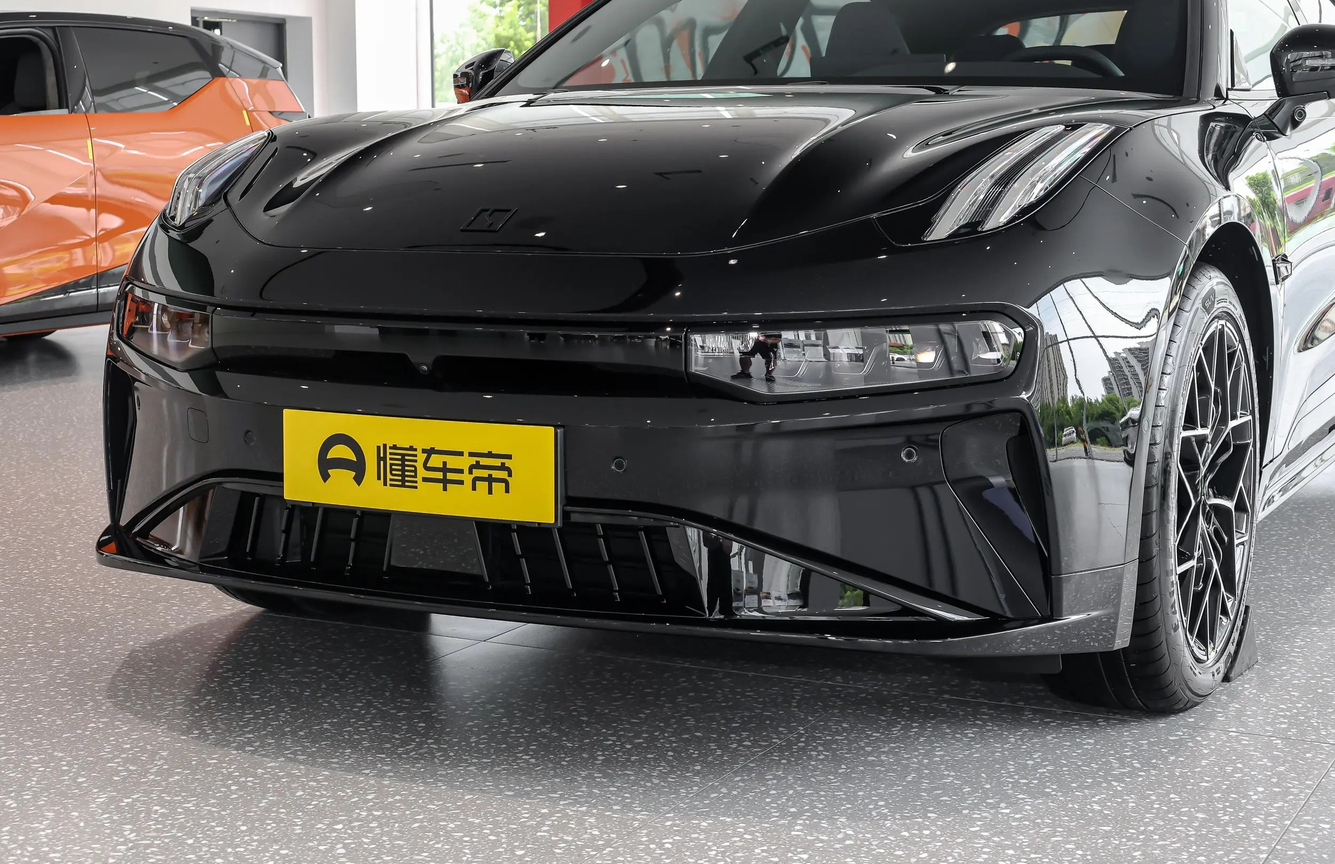ZEEKR: (461, 206, 517, 232)
